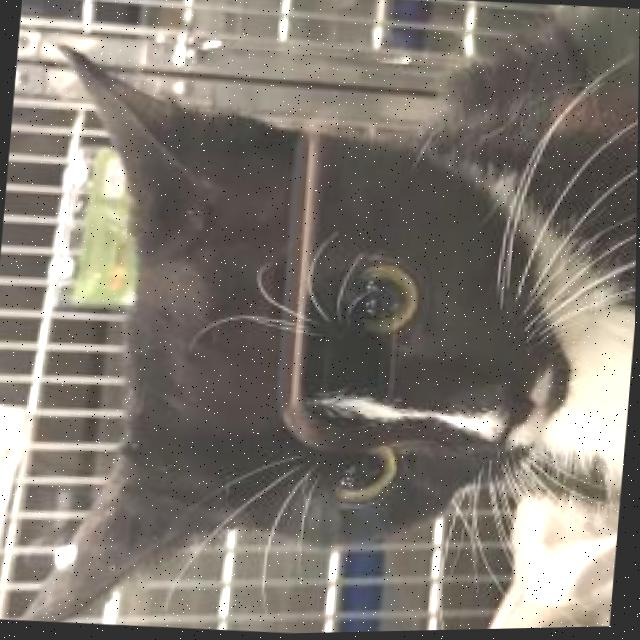Tuxedo: (2, 0, 640, 640)
